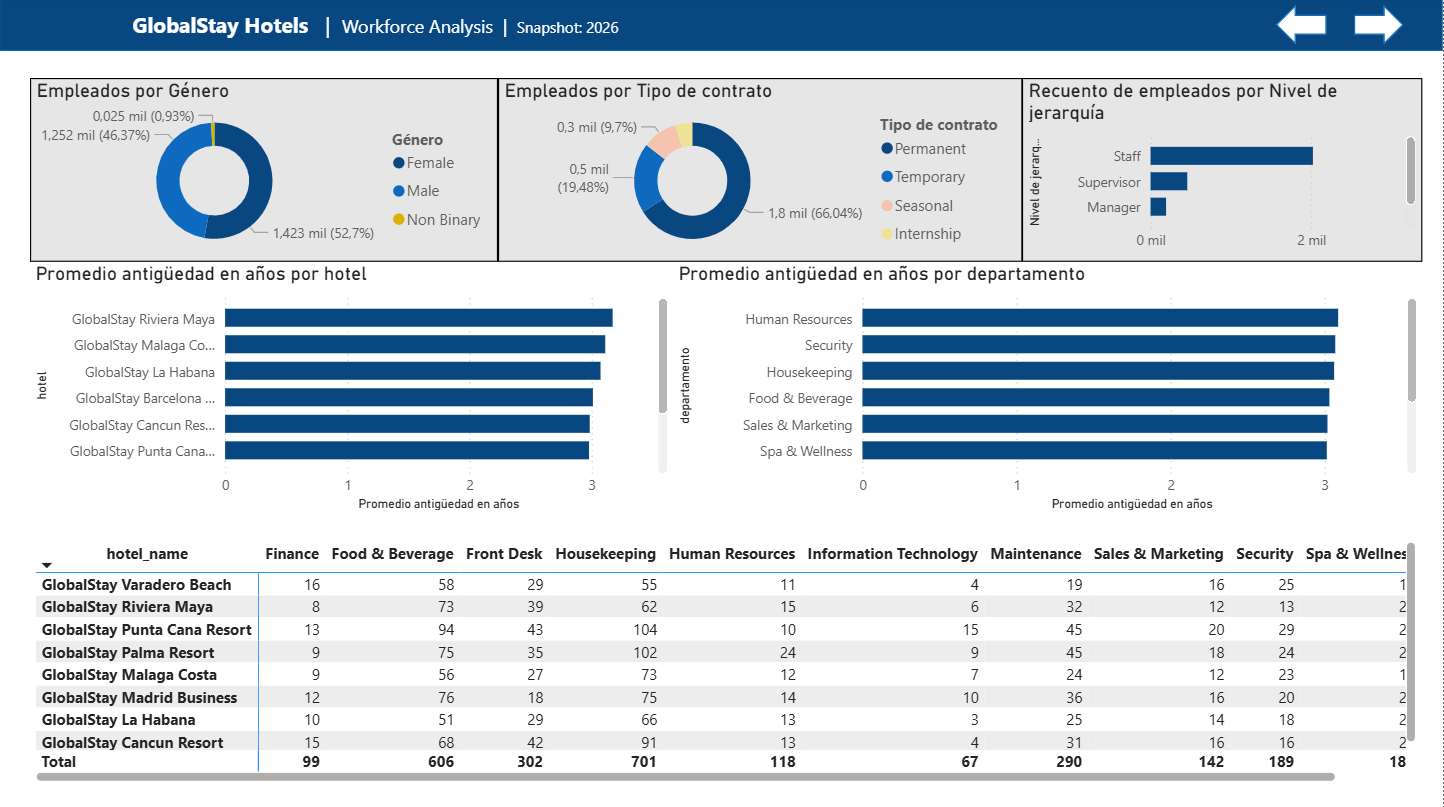

Layout of this report page (visuals, bound fields, positions):
{"tool":"powerbi","page":{"name":"Workforce Analysis","canvas":[1280,720],"ordinal":2},"visuals":[{"type":"shape","box":[0,0,1280.4,47.9],"z":0},{"type":"textbox","box":[59.4,7.1,548.9,47.9],"z":1000},{"type":"donutChart","fields":{"Y":["CountNonNull(vw_employee_snapshot.employee_id)"],"Category":["vw_employee_snapshot.gender"]},"box":[27.5,71.8,415,163.2],"z":2000},{"type":"donutChart","fields":{"Category":["vw_employee_snapshot.contract_type"],"Y":["CountNonNull(vw_employee_snapshot.employee_id)"]},"box":[442.5,71.8,464.6,163.2],"z":3000},{"type":"barChart","fields":{"Category":["vw_employee_snapshot.hierarchy_level"],"Y":["CountNonNull(vw_employee_snapshot.employee_id)"]},"box":[907.1,71.8,354.7,163.2],"z":4000},{"type":"pivotTable","fields":{"Rows":["vw_employee_snapshot.hotel_name"],"Columns":["vw_employee_snapshot.department_name"],"Values":["Medidas.Total Employees"]},"box":[27.5,477.9,1234.3,222.6],"z":5000},{"type":"clusteredBarChart","fields":{"Y":["Medidas.Average Tenure Years"],"Category":["vw_employee_snapshot.hotel_name"]},"box":[27.5,235,570.1,225.2],"z":6000},{"type":"clusteredBarChart","fields":{"Y":["Medidas.Average Tenure Years"],"Category":["vw_employee_snapshot.department_name"]},"box":[597.6,235,664.1,225.2],"z":7000},{"type":"shape","box":[1201.2,6.8,43.8,35],"z":7001},{"type":"shape","box":[1132.2,6.8,44.7,35],"z":7002}]}

Visuals, with their boxes in screenshot pixels (x1, y1, x2, y2), scaled from the page's 1280x720 canvas onto the 1444x807 screenshot:
shape: 0,0,1443,54
textbox: 67,8,686,62
donutChart - CountNonNull(vw_employee_snapshot.employee_id) x vw_employee_snapshot.gender: 31,80,499,263
donutChart - vw_employee_snapshot.contract_type x CountNonNull(vw_employee_snapshot.employee_id): 499,80,1023,263
barChart - vw_employee_snapshot.hierarchy_level x CountNonNull(vw_employee_snapshot.employee_id): 1023,80,1423,263
pivotTable - vw_employee_snapshot.hotel_name x vw_employee_snapshot.department_name: 31,536,1423,785
clusteredBarChart - Medidas.Average Tenure Years x vw_employee_snapshot.hotel_name: 31,263,674,516
clusteredBarChart - Medidas.Average Tenure Years x vw_employee_snapshot.department_name: 674,263,1423,516
shape: 1355,8,1405,47
shape: 1277,8,1328,47
